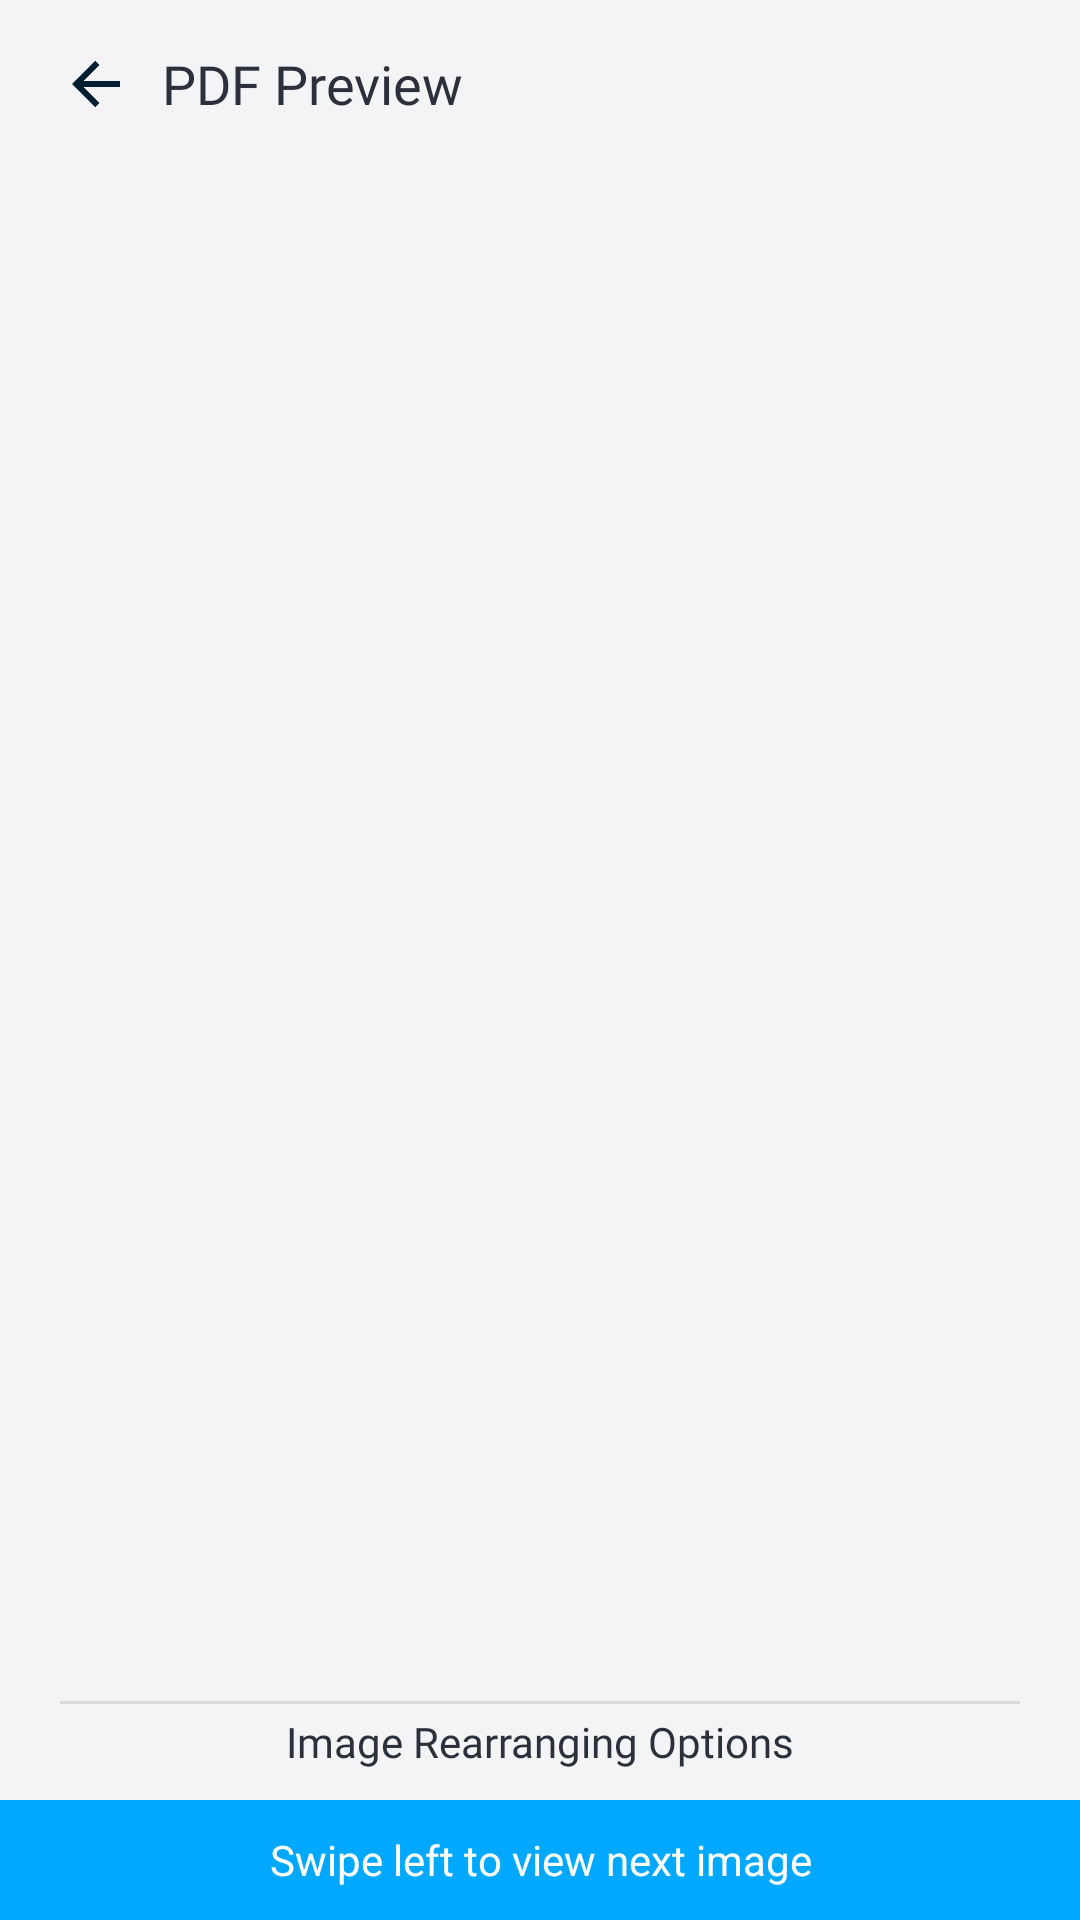

Screen size 1080×1920. Icon name, then its box in pixels as (x1, y1, x2, y2):
back arrow: (72, 61, 120, 107)
